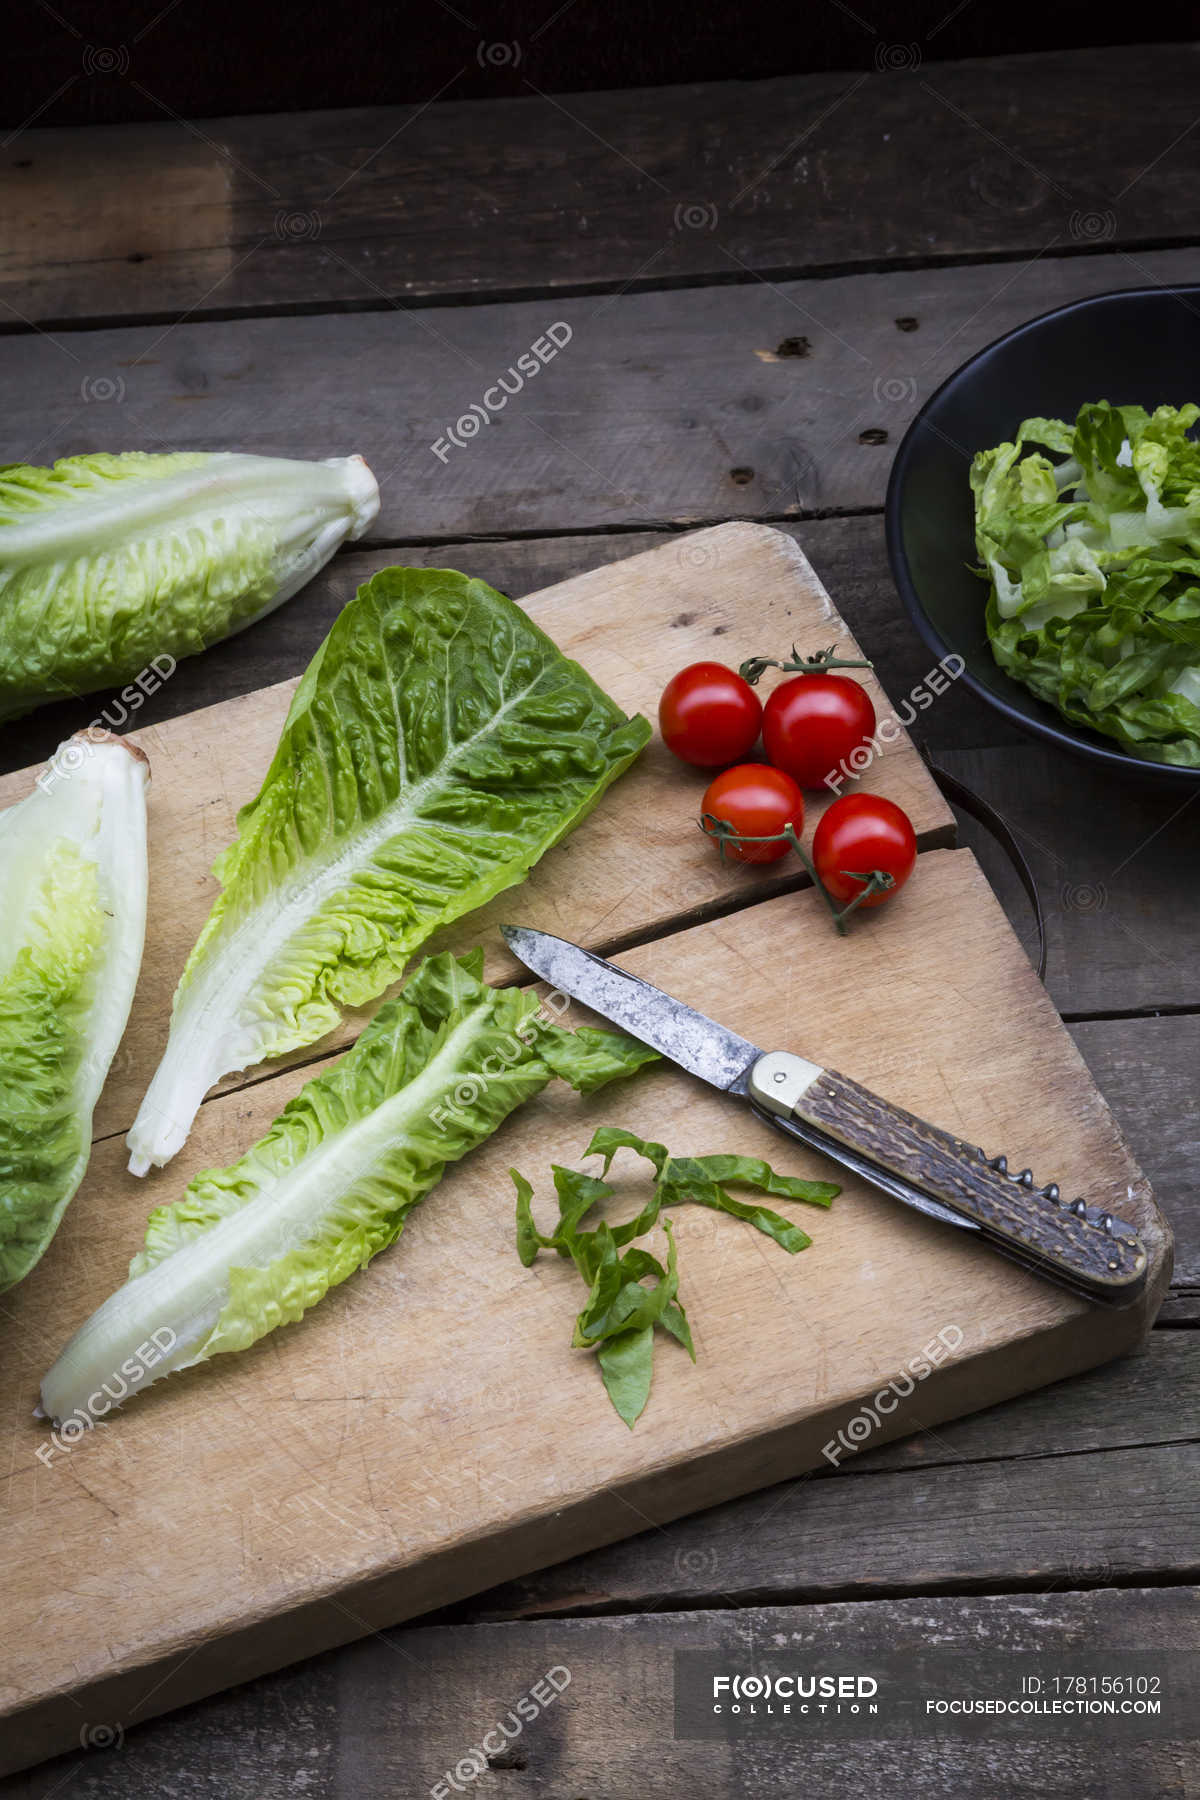chopped lettuce: (1049, 430, 1191, 718), (46, 466, 320, 587), (17, 771, 78, 1233)
